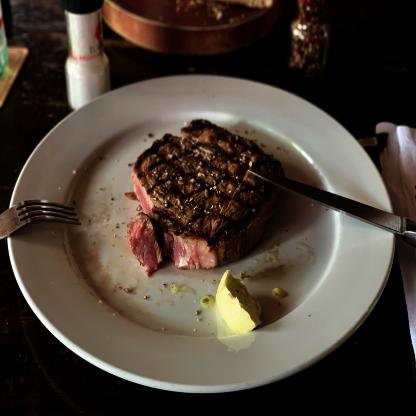Carne: (129, 116, 289, 270)
